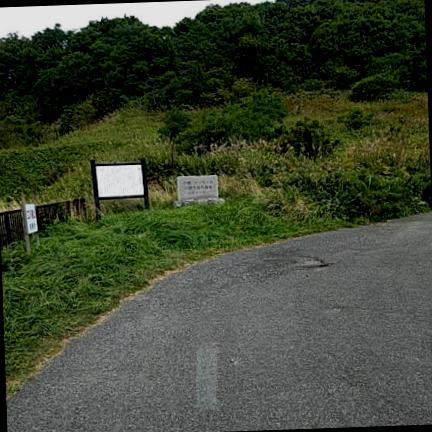Road: (6, 214, 431, 431)
